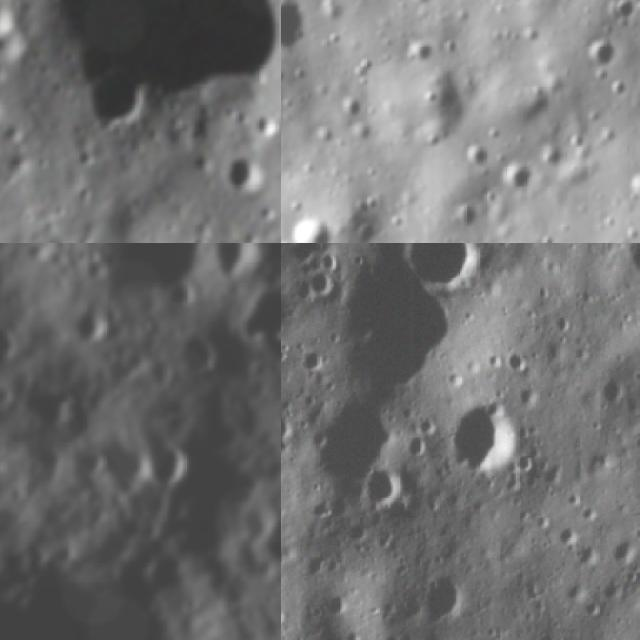crater: (76, 243, 224, 321), (219, 276, 281, 357), (163, 318, 229, 389), (138, 426, 200, 500), (455, 407, 520, 473), (401, 243, 482, 288), (196, 243, 270, 288), (422, 574, 476, 624), (250, 497, 281, 582), (358, 462, 412, 508), (300, 249, 346, 300), (65, 441, 112, 485), (232, 152, 270, 197), (281, 0, 309, 61), (497, 160, 541, 198), (291, 215, 343, 243), (605, 0, 640, 35), (583, 40, 620, 73), (575, 540, 603, 569), (619, 243, 640, 279), (554, 519, 580, 545), (0, 3, 16, 43), (250, 117, 281, 137), (630, 423, 640, 460)
